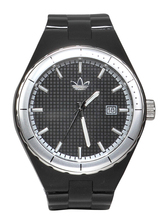watch: (10, 8, 160, 211)
